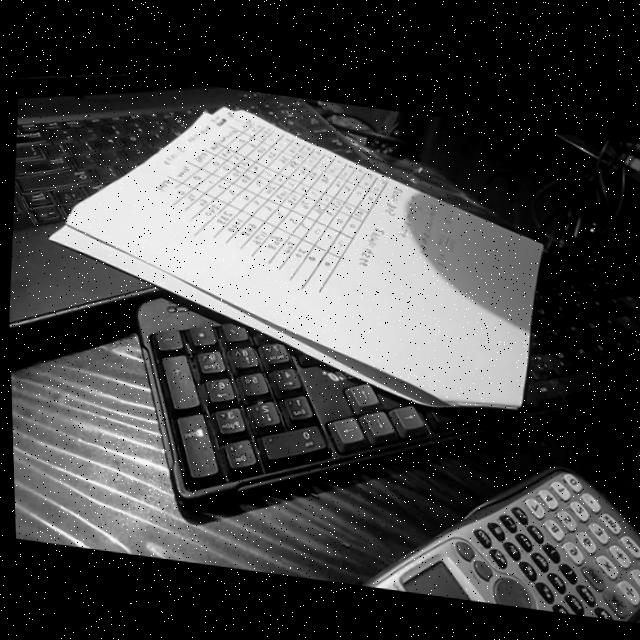document: (65, 107, 543, 405)
